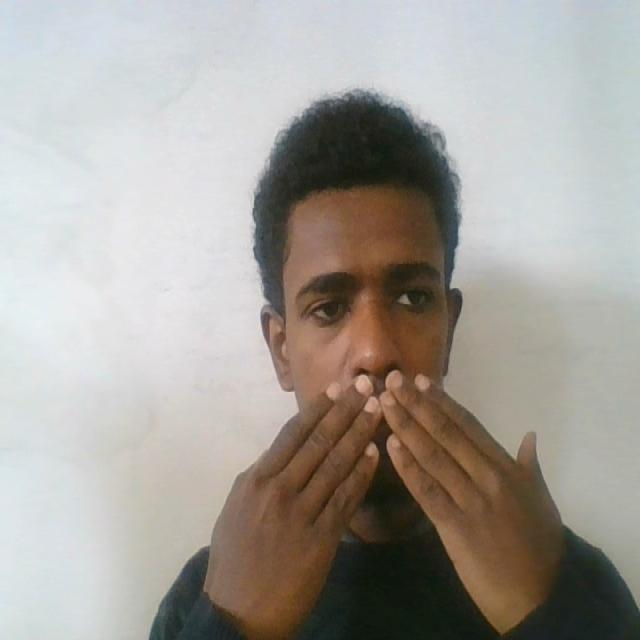thanks: (197, 367, 578, 635)
